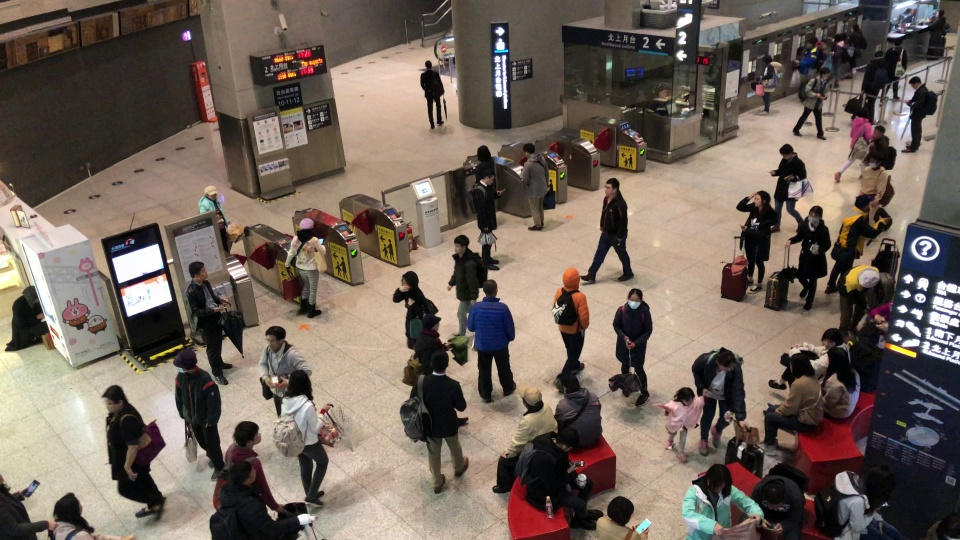person_head: (863, 463, 895, 502), (52, 492, 84, 521), (606, 494, 634, 525), (233, 420, 261, 449), (101, 384, 128, 413), (287, 368, 313, 397), (229, 459, 256, 486), (705, 464, 729, 494), (516, 383, 542, 410), (936, 510, 960, 539), (172, 348, 198, 373), (763, 480, 785, 509), (826, 347, 850, 373), (788, 354, 814, 377), (821, 326, 845, 350), (264, 325, 287, 350), (556, 427, 579, 452), (429, 349, 449, 373), (561, 266, 581, 290), (858, 267, 880, 288), (187, 261, 209, 281), (559, 372, 580, 392), (715, 351, 734, 371), (400, 270, 419, 289), (452, 234, 470, 254), (22, 285, 40, 304), (677, 386, 695, 405), (421, 314, 441, 331), (627, 288, 644, 308), (807, 205, 824, 225), (482, 278, 499, 297), (604, 176, 620, 196), (753, 190, 771, 207), (479, 167, 495, 186), (855, 194, 871, 212), (778, 142, 794, 159), (298, 217, 314, 233), (476, 144, 490, 162), (202, 185, 218, 199), (868, 153, 882, 168), (908, 75, 922, 89), (522, 142, 535, 156), (872, 125, 884, 138), (760, 53, 772, 65), (820, 65, 831, 78), (857, 107, 869, 118), (893, 36, 904, 47), (424, 59, 433, 69), (851, 23, 860, 33), (936, 8, 945, 18), (874, 49, 883, 57), (806, 39, 814, 47), (834, 35, 841, 42)
person_vbox: (398, 349, 470, 493), (512, 426, 604, 531), (100, 385, 167, 518), (400, 314, 469, 441), (208, 459, 314, 540), (759, 346, 861, 421), (279, 369, 332, 510), (491, 382, 558, 493), (813, 461, 905, 540), (172, 347, 225, 483), (823, 193, 891, 297), (211, 421, 286, 513), (756, 354, 823, 454), (466, 278, 517, 404), (183, 261, 234, 386), (680, 463, 763, 538), (690, 346, 747, 455), (578, 177, 635, 284), (783, 204, 831, 314), (767, 327, 850, 390), (549, 266, 590, 392), (611, 287, 653, 407), (258, 325, 312, 416), (734, 189, 779, 295), (750, 461, 810, 540), (283, 216, 327, 319), (47, 491, 136, 540), (446, 234, 488, 335), (465, 167, 505, 270), (651, 386, 705, 461), (553, 372, 603, 448), (389, 269, 438, 346), (835, 264, 881, 344), (769, 142, 808, 234), (0, 474, 55, 539), (4, 284, 50, 353), (858, 153, 895, 237), (790, 65, 831, 140), (833, 106, 873, 182), (900, 76, 938, 153), (850, 49, 888, 124), (519, 141, 550, 232), (469, 144, 499, 229), (595, 494, 649, 540), (197, 184, 231, 256), (791, 39, 826, 104), (879, 36, 908, 109), (755, 53, 785, 115), (420, 59, 445, 130), (863, 124, 897, 171), (843, 22, 868, 82), (826, 34, 850, 91), (925, 508, 959, 540), (927, 8, 951, 37)
